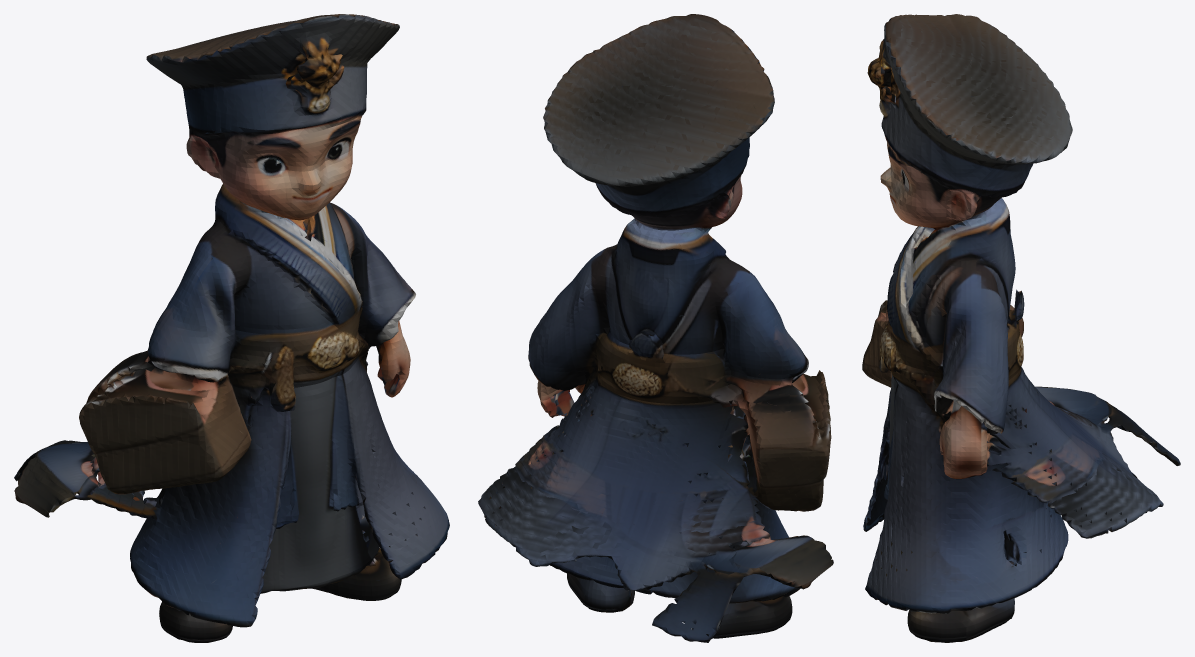
The model's file is body.glb.
The picture shows the model from 3 angles, left to right: view 1: azimuth 30°, elevation 25°; view 2: azimuth 150°, elevation 25°; view 3: azimuth 270°, elevation 25°; orthographic projection. The views are drawn at different scales.
Visible parts, largest first — view 1: geometry_0; view 2: geometry_0; view 3: geometry_0.
Part boxes in pixels (x1,y1,x2,y2): geometry_0: [14, 14, 449, 642]; geometry_0: [478, 14, 833, 642]; geometry_0: [862, 14, 1180, 642].
Size of the model in its own units: 1.22 by 1.96 by 0.9944.
Materials: 1 (1 with a texture image).
